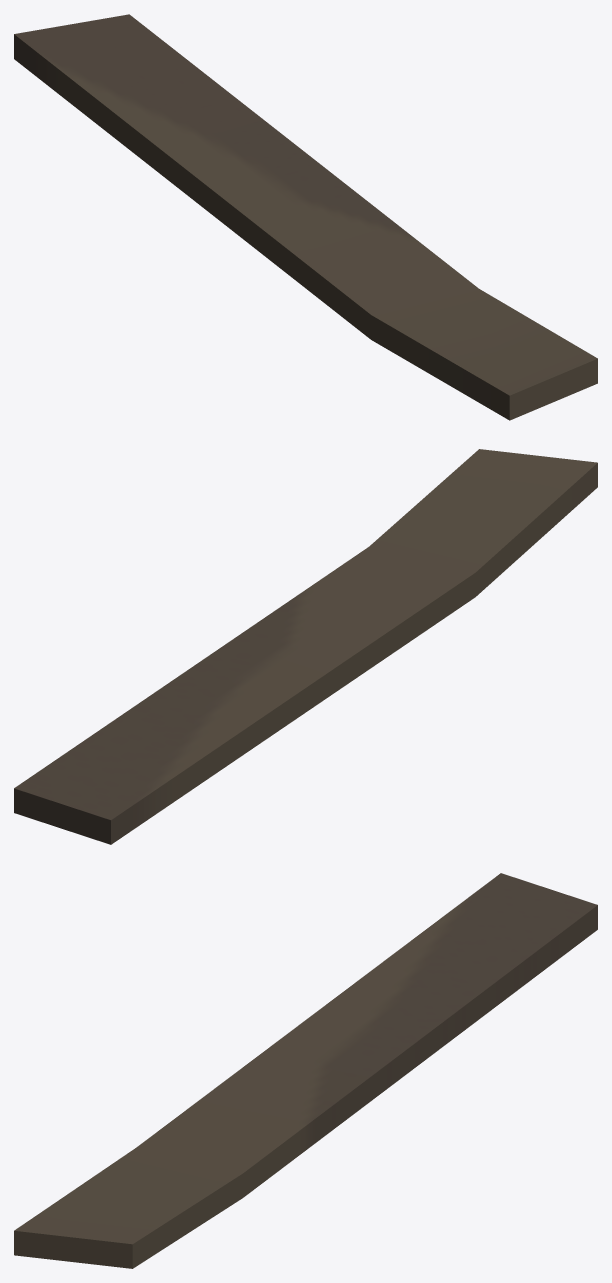
File: SM_Bld_Dock_Plank_01.fbx
The picture shows the model from 3 angles, top to bottom: view 1: azimuth 30°, elevation 25°; view 2: azimuth 150°, elevation 25°; view 3: azimuth 330°, elevation 25°; orthographic projection.
Visible parts, largest first — view 1: SM_Bld_Dock_Plank_01; view 2: SM_Bld_Dock_Plank_01; view 3: SM_Bld_Dock_Plank_01.
Boxes of the visible parts, <box> form: SM_Bld_Dock_Plank_01: <box>14,14,597,420</box>; SM_Bld_Dock_Plank_01: <box>14,449,597,844</box>; SM_Bld_Dock_Plank_01: <box>14,873,597,1268</box>.
Size of the model in its own units: 33.77 by 11.02 by 256.
